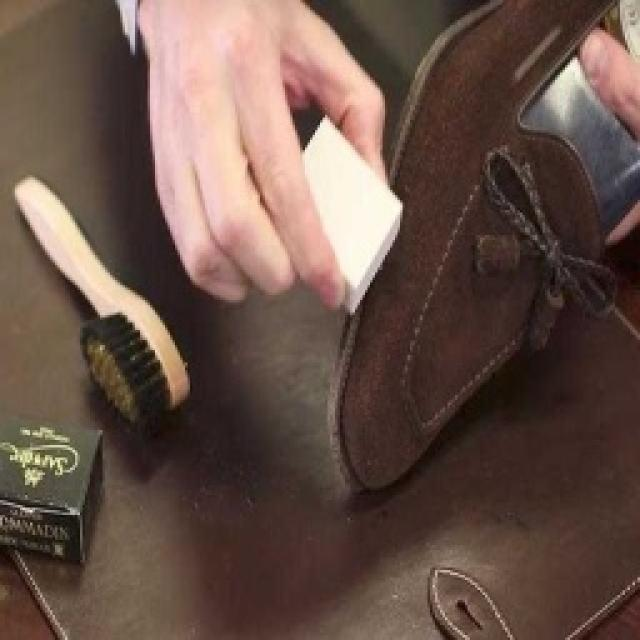Silgi: (279, 116, 406, 316)
